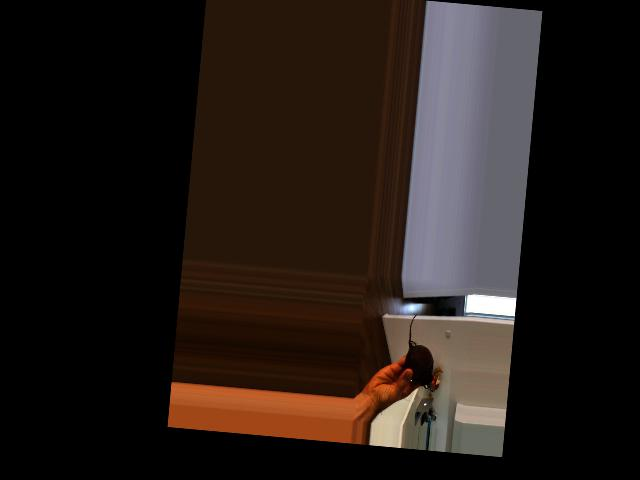beet: (403, 313, 438, 388)
